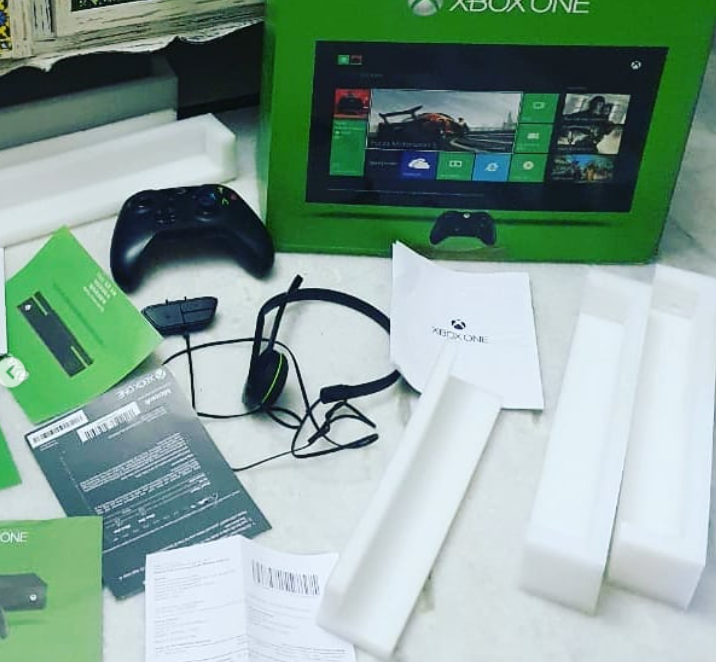gamingconsole: (113, 184, 279, 289)
